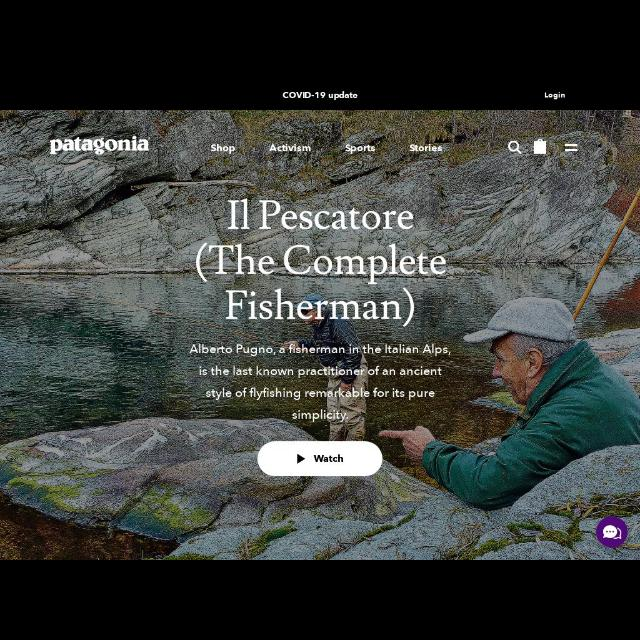backgroundimage: (1, 111, 640, 559)
button: (597, 517, 627, 547)
icon: (602, 526, 622, 540), (508, 140, 522, 156), (534, 140, 548, 154), (564, 144, 578, 152), (296, 454, 306, 464)
multitab: (209, 144, 443, 154), (507, 138, 579, 154)
text: (197, 198, 448, 326), (190, 343, 452, 423), (50, 136, 150, 154), (282, 91, 358, 101), (269, 144, 311, 152), (346, 144, 376, 154), (314, 454, 344, 464), (210, 144, 236, 154), (410, 144, 442, 152), (544, 91, 566, 99)
textbutton: (258, 441, 382, 477)
